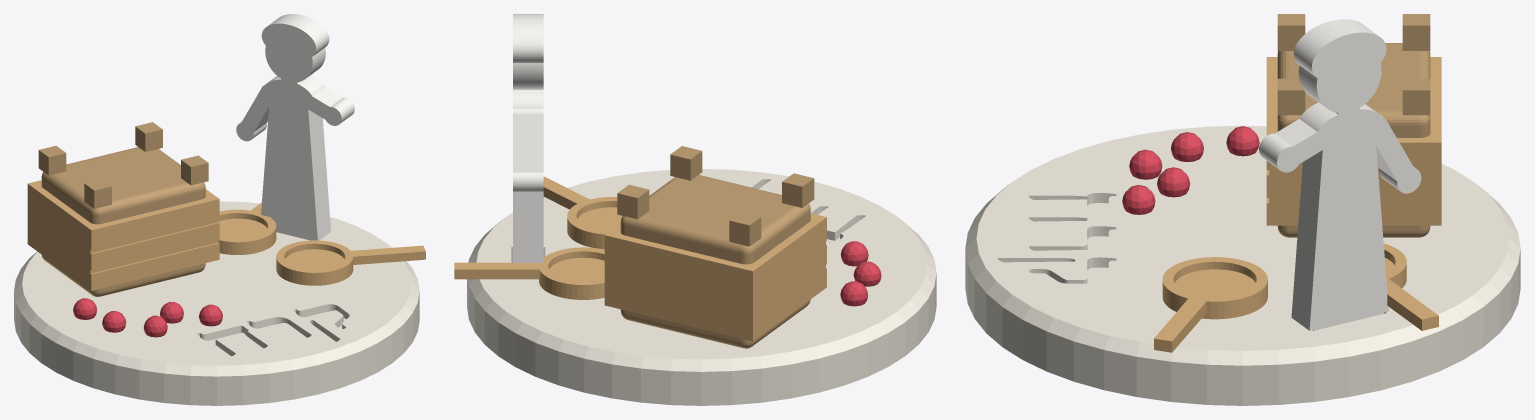
Rendered from korach.glb.
3 renders of one model, left to right at view 1: azimuth 30°, elevation 25°; view 2: azimuth 150°, elevation 25°; view 3: azimuth 270°, elevation 25°, orthographic. The views are drawn at different scales.
Parts seen in each view (by area): view 1: stage, elazar, plating, altar, firepan-2, firepan-1, scattered-fire; view 2: stage, plating, altar, elazar, firepan-1, firepan-2, scattered-fire; view 3: stage, elazar, altar, plating, firepan-2, scattered-fire, firepan-1.
Part boxes in pixels (bbox=[...]): stage: bbox=[14, 201, 419, 405]; elazar: bbox=[236, 14, 354, 240]; plating: bbox=[27, 180, 219, 290]; altar: bbox=[38, 122, 208, 296]; firepan-2: bbox=[276, 240, 425, 285]; firepan-1: bbox=[218, 202, 276, 254]; scattered-fire: bbox=[73, 298, 222, 337]; stage: bbox=[467, 169, 936, 405]; plating: bbox=[604, 213, 826, 341]; altar: bbox=[617, 146, 814, 348]; elazar: bbox=[513, 14, 543, 262]; firepan-1: bbox=[454, 247, 604, 299]; firepan-2: bbox=[543, 176, 622, 249]; scattered-fire: bbox=[840, 241, 881, 306]; stage: bbox=[965, 125, 1520, 405]; elazar: bbox=[1259, 19, 1421, 330]; altar: bbox=[1277, 14, 1430, 237]; plating: bbox=[1266, 57, 1441, 225]; firepan-2: bbox=[1154, 257, 1267, 352]; scattered-fire: bbox=[1122, 126, 1259, 214]; firepan-1: bbox=[1383, 243, 1438, 330].
Bounding box in the file's own units: 40.58 × 26.81 × 40.
